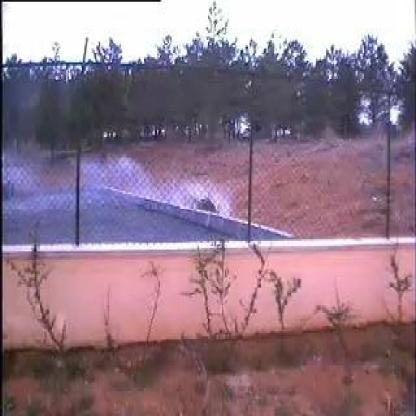-: (49, 148, 233, 244)
